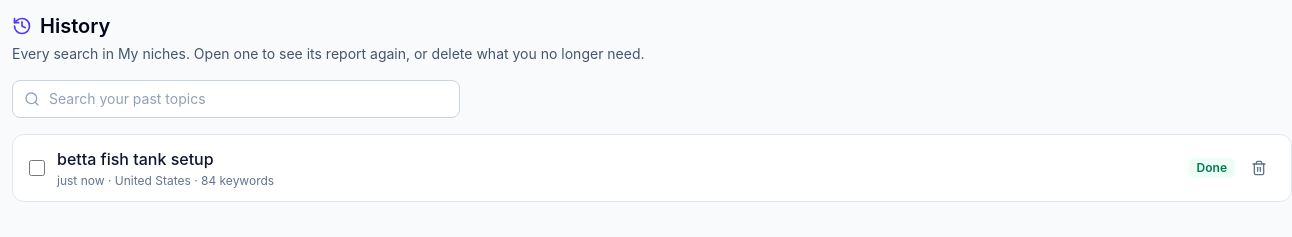
history screen › deletes a search only after confirming
Check: the text "betta fish tank setup" is shown, box [57,149,214,169]
Step 1. Click the button named "Delete “betta fish tank setup”" → (1259, 168), box [1243,152,1275,184]
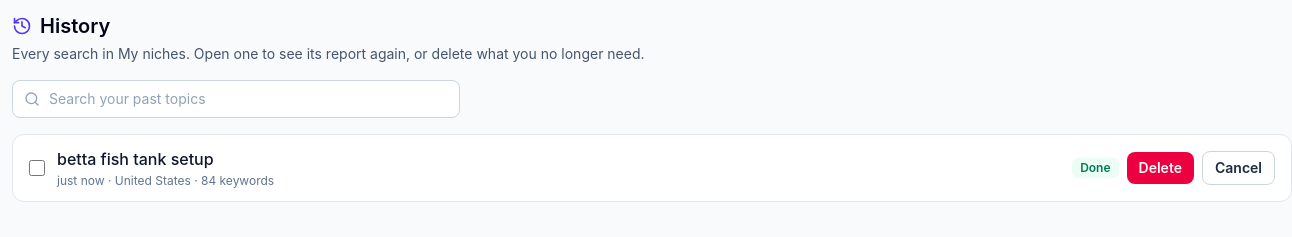
Step 2. Click the button "Cancel" → (1238, 168), box [1202,151,1275,185]
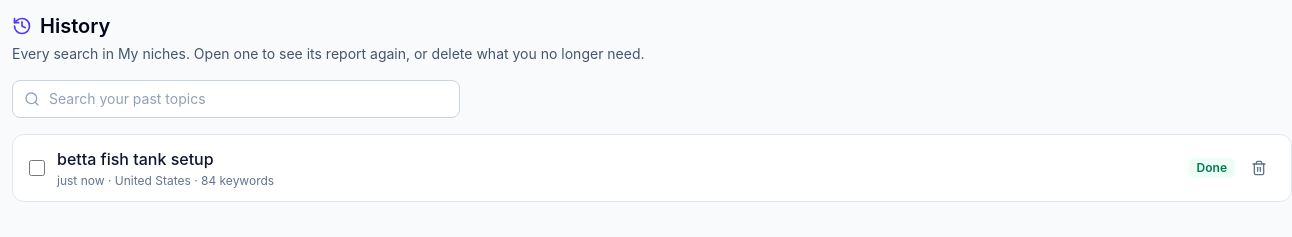
Step 3. Click the button named "Delete “betta fish tank setup”" → (1259, 168), box [1243,152,1275,184]
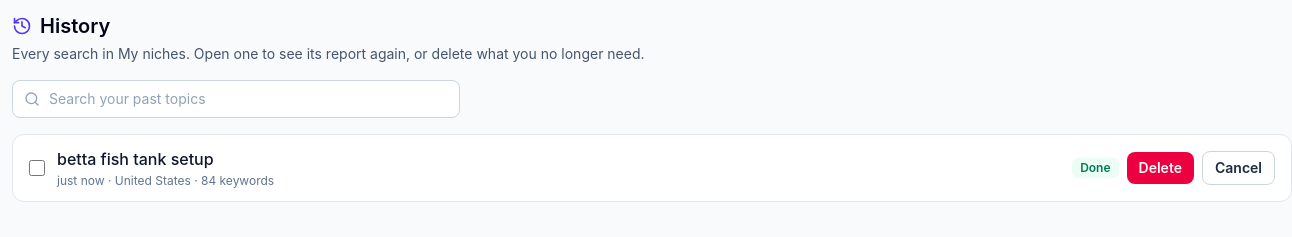
Step 4. Click the button "Delete" → (1160, 168), box [1126,152,1194,184]
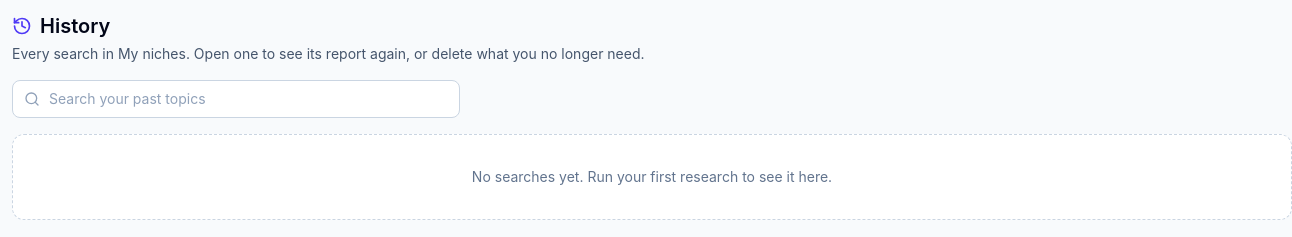
Check: the button "betta fish tank setup" is gone
Check: the text "No searches yet. Run your first research to see it here." is shown, box [472,168,832,185]
